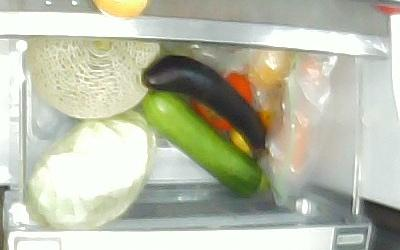cabbage: (28, 109, 156, 226)
carrot_vinyl: (273, 56, 320, 174)
eggplant: (142, 56, 276, 158)
melon: (28, 38, 161, 119)
tangerine_vinyl: (249, 48, 291, 85)
tomato: (192, 70, 254, 134)
zucchini: (142, 92, 276, 196)
